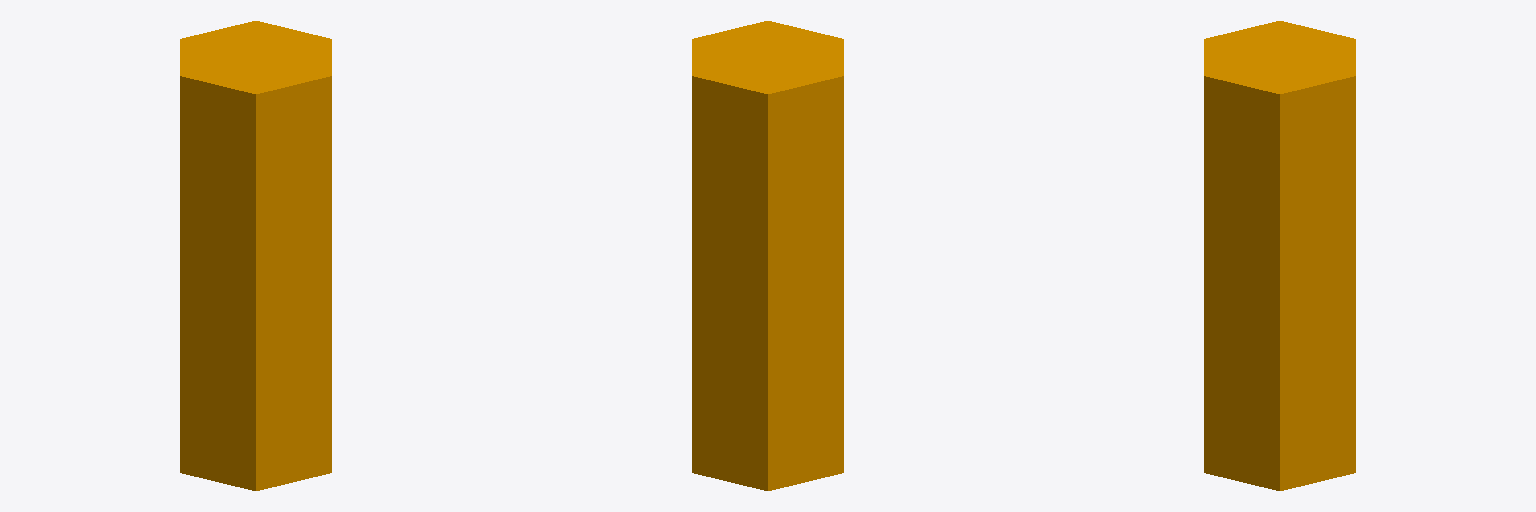
robot.urdf — peg_hex:
<?xml version="1.0"?>
<robot name="peg_hex">
    <link name="peg_hex">
        <visual>
            <geometry>
                <mesh filename="../mesh/vitascope_pegs/peg_hex.obj"/>
            </geometry>
        </visual>
        <collision>
            <geometry>
                <mesh filename="../mesh/vitascope_pegs/peg_hex.obj"/>
            </geometry>
            <sdf resolution="256"/>
        </collision>
    </link>
</robot>

--- Render facts (derived) ---
The picture shows the robot from 3 angles, left to right: view 1: azimuth 30°, elevation 25°; view 2: azimuth 150°, elevation 25°; view 3: azimuth 270°, elevation 25°; orthographic projection.
Robot: peg_hex — 1 links, 0 joints (none); root link peg_hex; default pose: every joint at zero.
Links seen in each view (by area): view 1: peg_hex; view 2: peg_hex; view 3: peg_hex.
Boxes of the visible links, <box> form: peg_hex: <box>180,21,331,490</box>; peg_hex: <box>692,21,843,490</box>; peg_hex: <box>1204,21,1355,490</box>.
Size in the robot's own frame: 0.04 by 0.0346 by 0.1 metres.
1 mesh visuals loaded from 1 distinct referenced files (1 OBJ).
